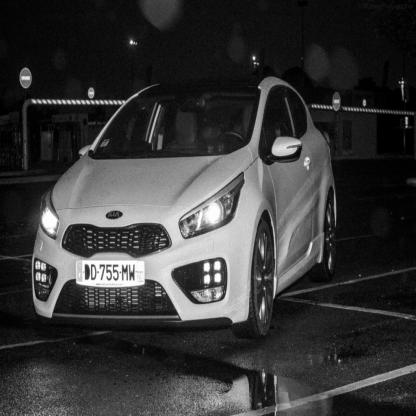Car: (31, 73, 337, 340)
